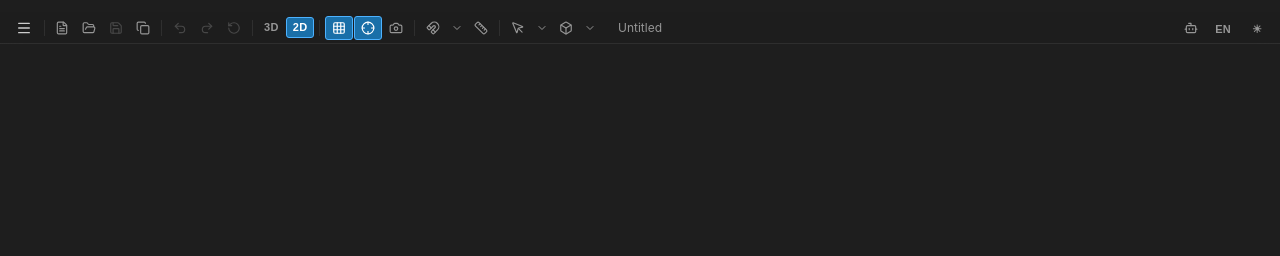
Test: MenuBar › renders all top-level menu labels
The width and height of the screenshot is (1280, 256).
Click the button titled "文件" at (24, 28), box [8,16,40,40]
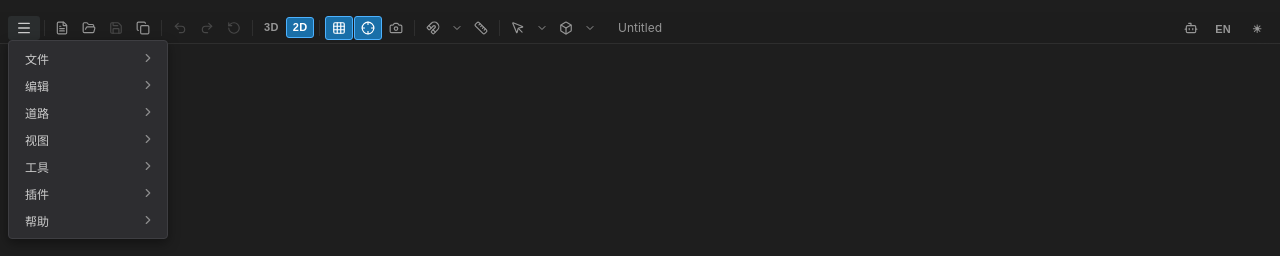
Check: the text "文件" is shown, box [25,50,49,66]
Check: the text "编辑" is shown, box [25,76,49,94]
Check: the text "视图" is shown, box [25,130,49,148]
